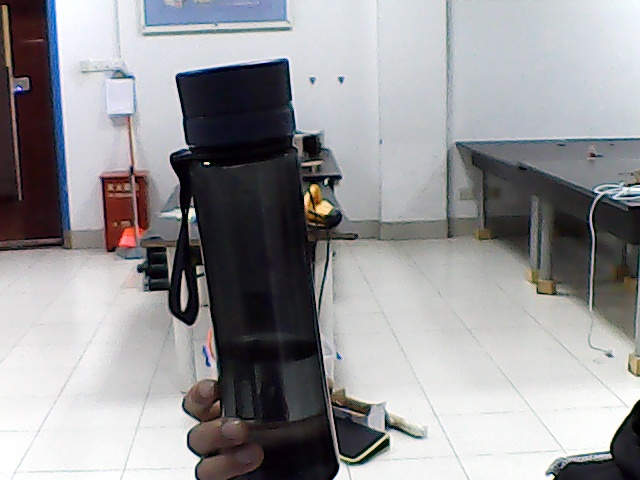cup: (226, 91, 292, 414)
